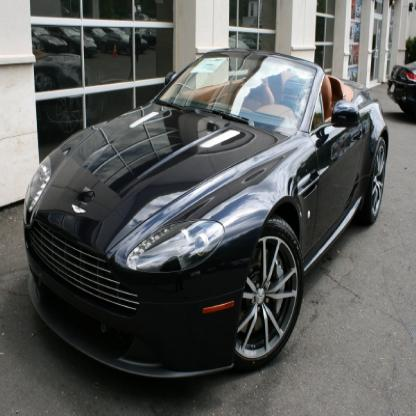Vehicle: (24, 48, 390, 388)
